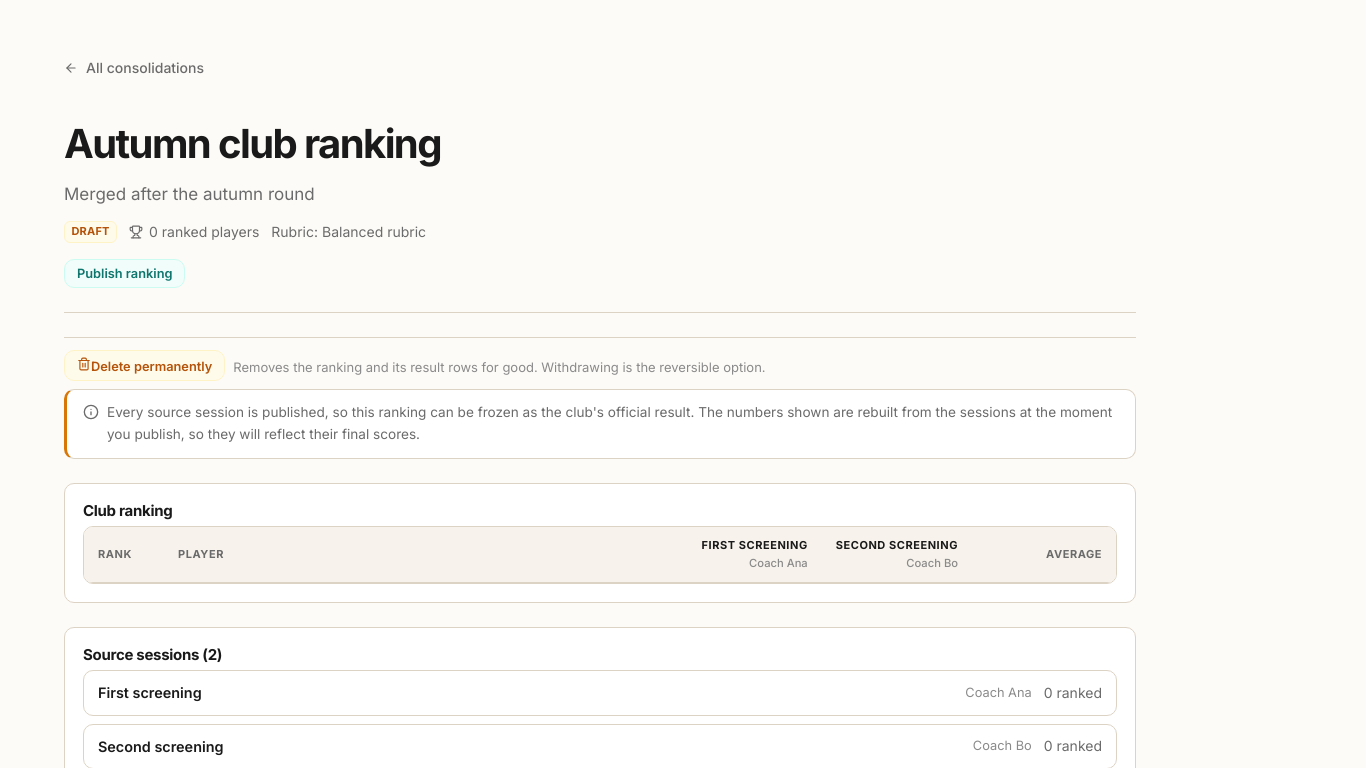
Test: RankingConsolidationDetail › publication › surfaces a refusal and keeps the ranking a draft
Click the button "Publish ranking".
click(125, 274)  # box [64,260,186,288]
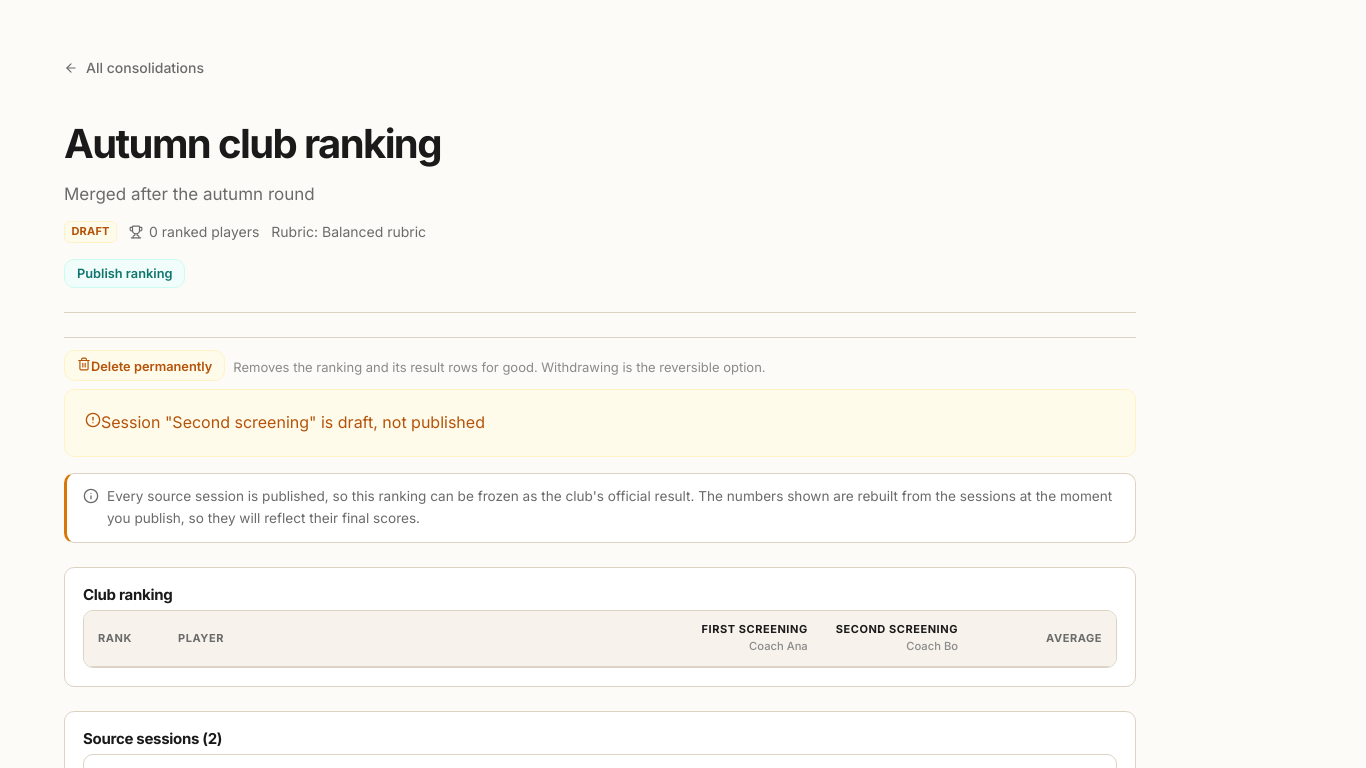
expect the message shows "Second screening": met, box [101,412,485,432]
